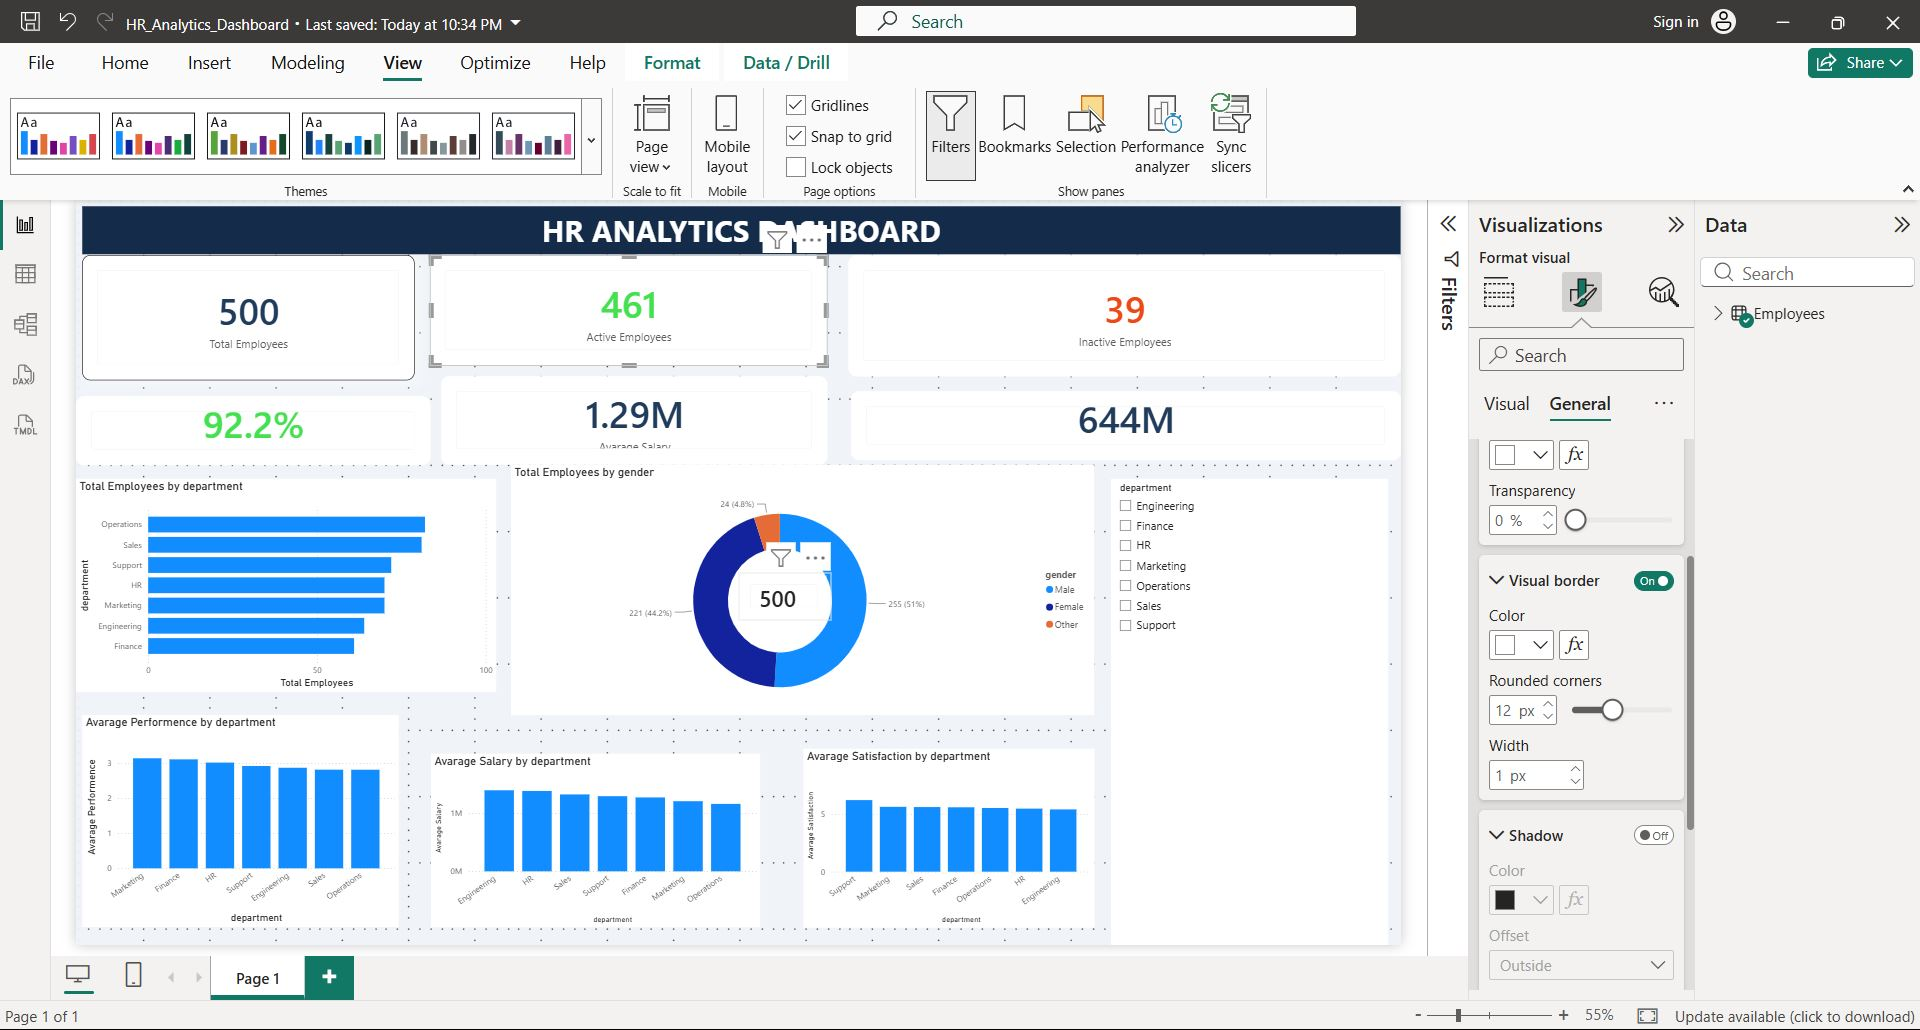

Layout of this report page (visuals, bound fields, positions):
{"tool":"powerbi","page":{"name":"Page 1","canvas":[1920,1080],"ordinal":0},"visuals":[{"type":"cardVisual","fields":{"Data":["Employees.Total Employees"]},"box":[9.3,79.1,481.4,181.4],"z":0},{"type":"cardVisual","fields":{"Data":["Employees.Avarage Salary"]},"box":[528,256,560,128],"z":1000},{"type":"cardVisual","fields":{"Data":["Employees.Total Salary"]},"box":[1123.2,276.8,796.4,100],"z":2000},{"type":"clusteredBarChart","fields":{"Category":["Employees.department"],"Y":["Employees.Total Employees"]},"box":[0,403.6,608.9,308.9],"z":3000},{"type":"donutChart","fields":{"Category":["Employees.gender"],"Y":["Employees.Total Employees"]},"box":[630.4,383.9,844.6,362.5],"z":4000},{"type":"clusteredColumnChart","fields":{"Category":["Employees.department"],"Y":["Employees.Avarage Performence"]},"box":[9.3,746.5,458.1,307],"z":5000},{"type":"slicer","fields":{"Values":["Employees.department"]},"box":[1500,403.6,401.8,676.8],"z":6000},{"type":"cardVisual","fields":{"Data":["Employees.Total Employees"]},"box":[960.7,539.3,132.6,69.8],"z":7000},{"type":"clusteredColumnChart","fields":{"Category":["Employees.department"],"Y":["Employees.Avarage Salary"]},"box":[514,802.3,476.7,251.2],"z":8000},{"type":"cardVisual","fields":{"Data":["Employees.Active Employees"]},"box":[512,80,576,160],"z":9000},{"type":"cardVisual","fields":{"Data":["Employees.Inactive Employees"]},"box":[1120,80,800,176],"z":10000},{"type":"cardVisual","fields":{"Data":["Employees.Active Employee Rate"]},"box":[0,283.7,514,100],"z":11000},{"type":"clusteredColumnChart","fields":{"Category":["Employees.department"],"Y":["Employees.Avarage Satisfaction"]},"box":[1053.6,794.6,421.4,258.9],"z":12000},{"type":"textbox","box":[8.9,8.9,1910.7,69.6],"z":13000}]}

Visuals, with their boxes on the page's 1920x1080 design canvas (x1, y1, x2, y2). These are canvas units, not pixel positions in the 1920x1030 screenshot, which may show the page scaled, cropped or inside an application window:
cardVisual - Employees.Total Employees: (9, 79, 491, 260)
cardVisual - Employees.Avarage Salary: (528, 256, 1088, 384)
cardVisual - Employees.Total Salary: (1123, 277, 1920, 377)
clusteredBarChart - Employees.department x Employees.Total Employees: (0, 404, 609, 712)
donutChart - Employees.gender x Employees.Total Employees: (630, 384, 1475, 746)
clusteredColumnChart - Employees.department x Employees.Avarage Performence: (9, 746, 467, 1054)
slicer - Employees.department: (1500, 404, 1902, 1080)
cardVisual - Employees.Total Employees: (961, 539, 1093, 609)
clusteredColumnChart - Employees.department x Employees.Avarage Salary: (514, 802, 991, 1054)
cardVisual - Employees.Active Employees: (512, 80, 1088, 240)
cardVisual - Employees.Inactive Employees: (1120, 80, 1920, 256)
cardVisual - Employees.Active Employee Rate: (0, 284, 514, 384)
clusteredColumnChart - Employees.department x Employees.Avarage Satisfaction: (1054, 795, 1475, 1054)
textbox: (9, 9, 1920, 78)
